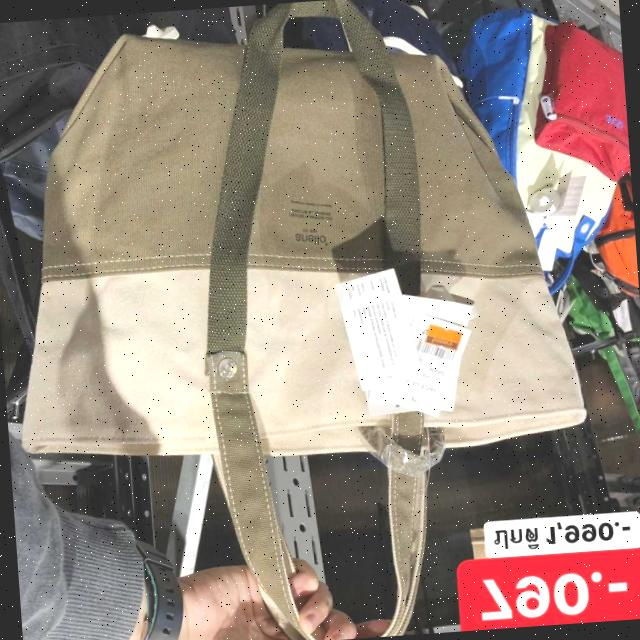Handbag: (0, 0, 586, 498)
